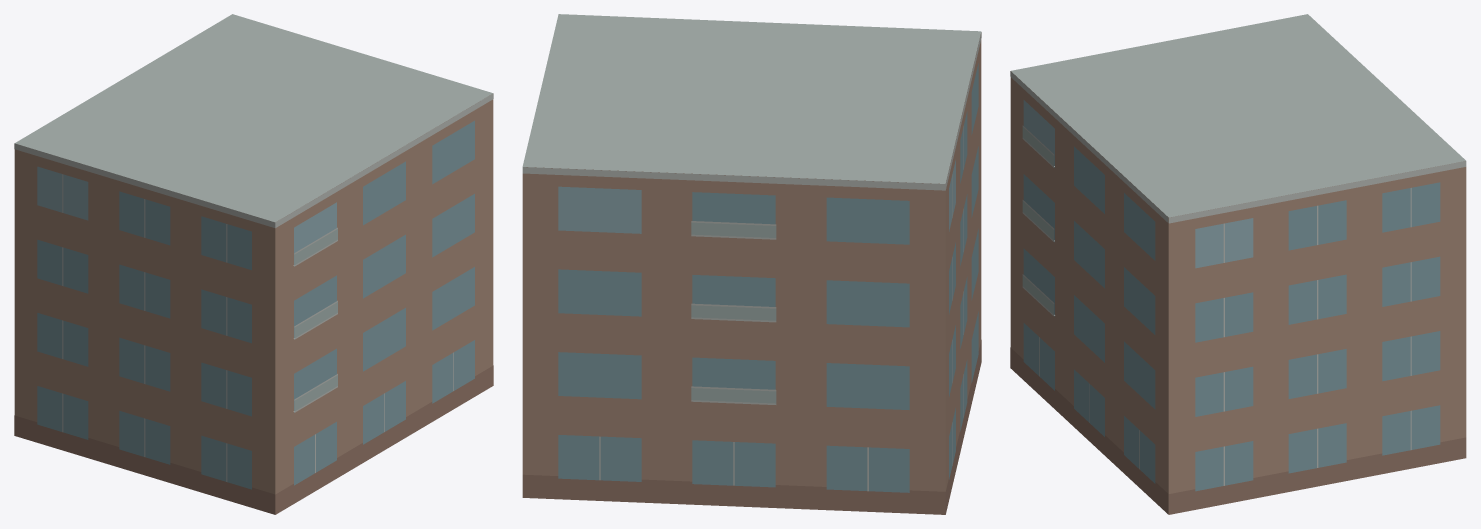
Rendered from survey-upis-32801326.glb.
3 renders of one model, left to right at view 1: azimuth 30°, elevation 25°; view 2: azimuth 150°, elevation 25°; view 3: azimuth 270°, elevation 25°, orthographic. The views are drawn at different scales.
Visible parts, largest first — view 1: survey-upis-32801326.tmp; view 2: survey-upis-32801326.tmp; view 3: survey-upis-32801326.tmp.
Part boxes in pixels (x1,y1,x2,y2): survey-upis-32801326.tmp: (14, 14, 493, 514); survey-upis-32801326.tmp: (522, 14, 981, 514); survey-upis-32801326.tmp: (1010, 14, 1466, 514).
Bounding box in the file's own units: 17.93 × 12.2 × 16.97.
